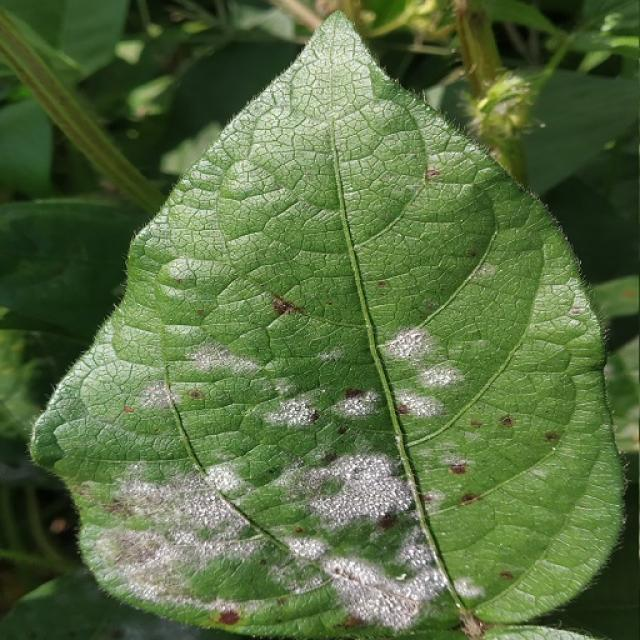Blackgram: (31, 14, 622, 639)
Powdery_Mildew: (111, 444, 442, 622), (205, 329, 466, 435), (116, 470, 258, 557), (131, 345, 281, 420), (319, 545, 444, 628), (299, 452, 411, 531), (379, 330, 474, 412), (102, 523, 177, 580), (375, 322, 443, 374), (183, 341, 260, 376), (321, 556, 377, 592), (382, 329, 431, 364), (202, 464, 248, 501), (265, 398, 316, 427), (329, 393, 378, 422), (137, 382, 179, 412), (398, 393, 443, 419), (285, 535, 327, 562), (416, 364, 459, 389), (453, 576, 484, 600), (440, 453, 471, 476), (316, 348, 346, 363), (273, 380, 298, 397), (395, 433, 403, 444), (570, 307, 581, 315), (455, 602, 461, 609), (551, 446, 557, 451)
